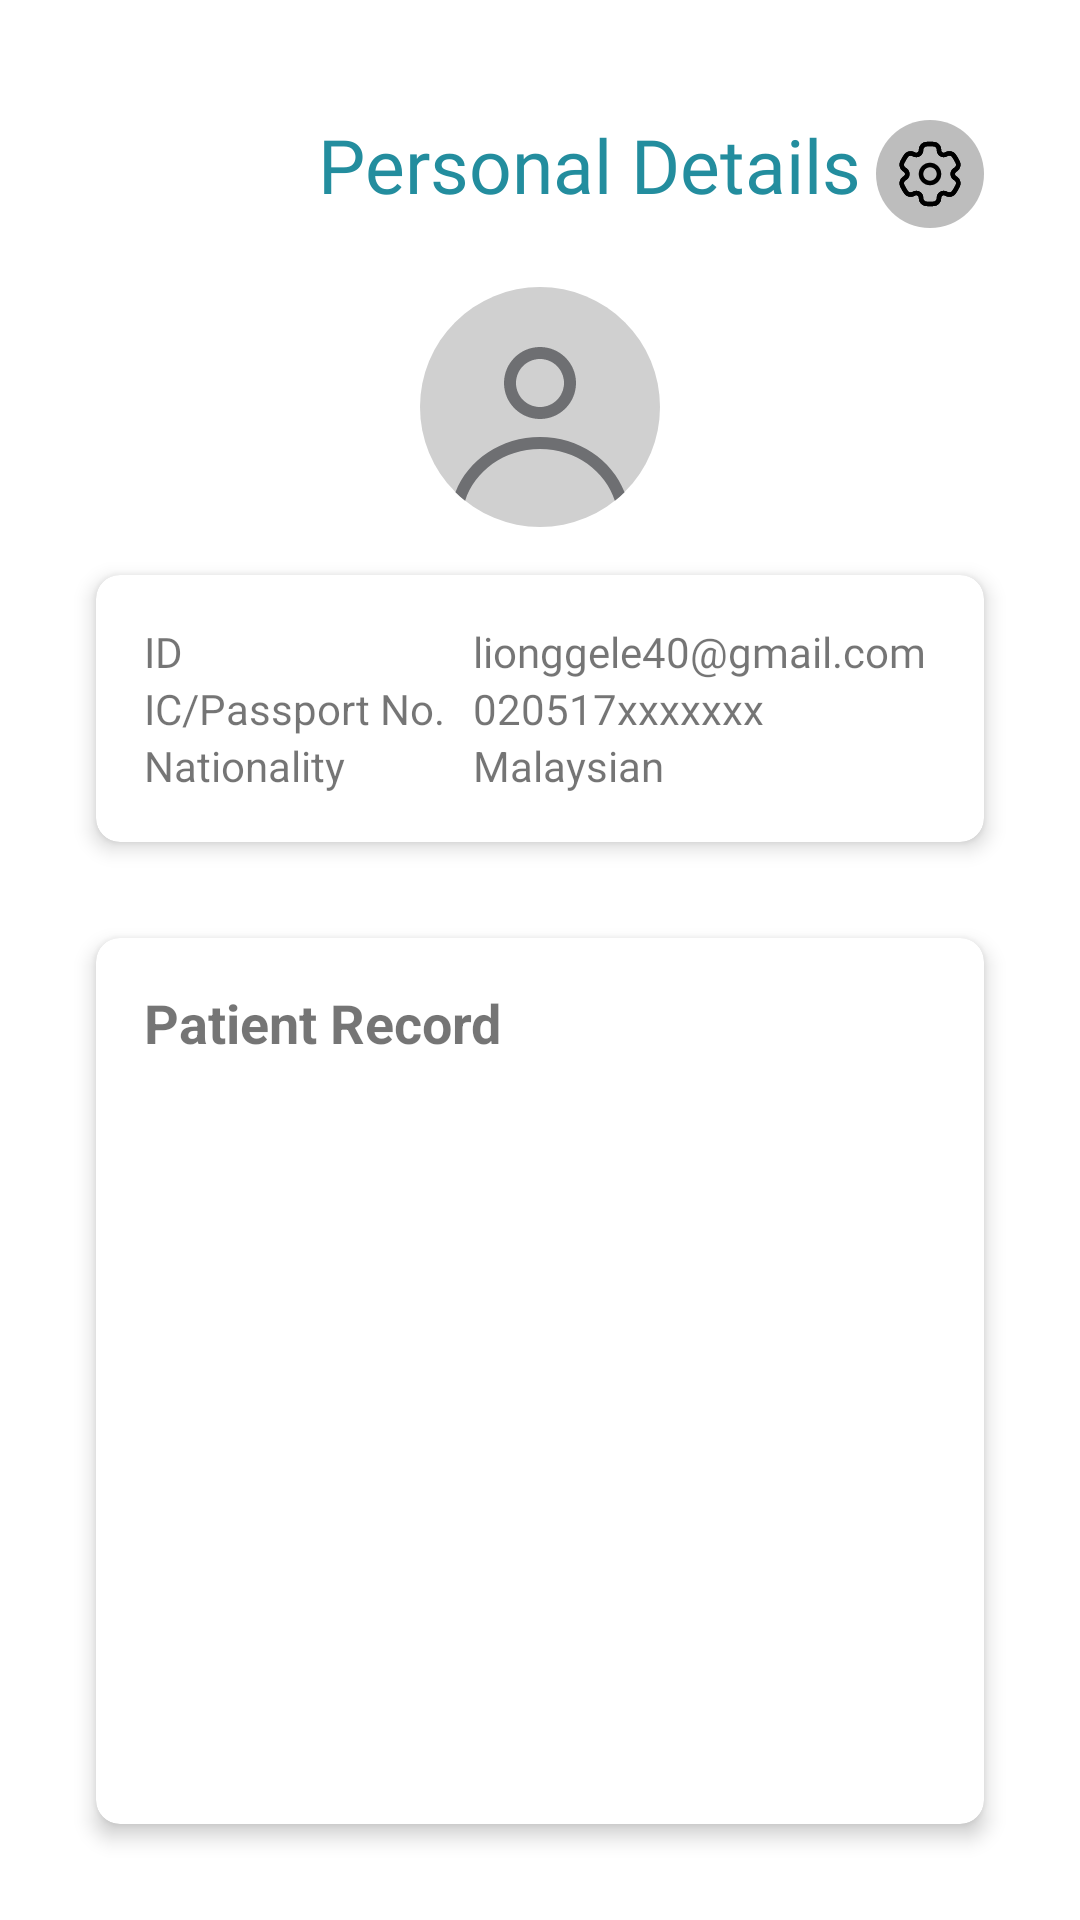

Locate icon controls on the screen. Image size 1080 x 1920, boxes as (x1, y1, x2, y2).
profile picture: (420, 287, 660, 527)
settings: (876, 120, 984, 228)
